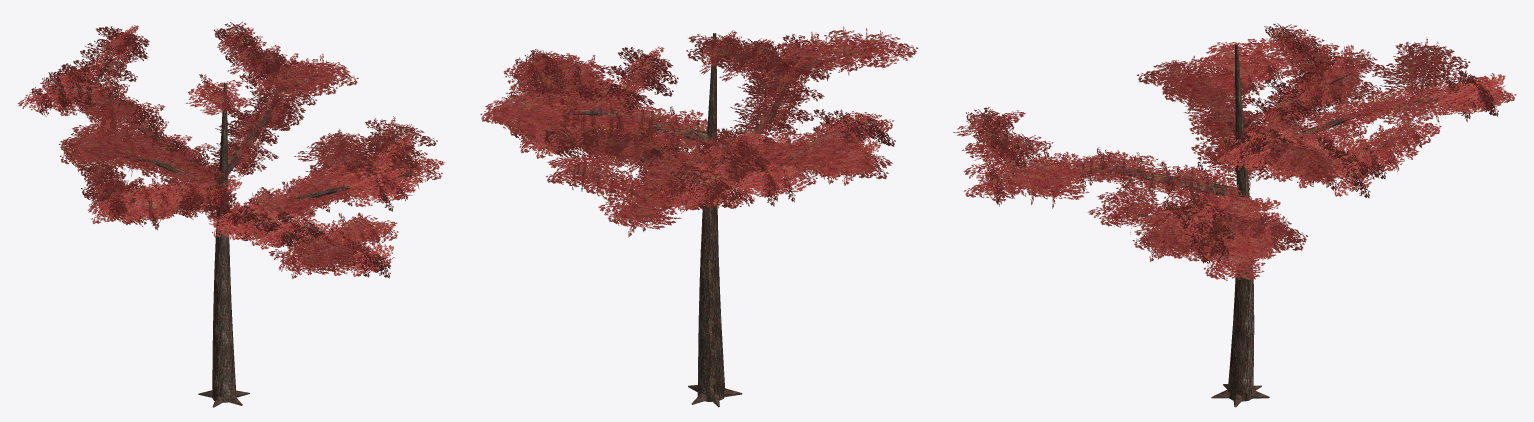
The model's file is tree_3d_05_red_lod0.glb.
The picture shows the model from 3 angles, left to right: view 1: azimuth 30°, elevation 25°; view 2: azimuth 150°, elevation 25°; view 3: azimuth 270°, elevation 25°; orthographic projection. The views are drawn at different scales.
Parts seen in each view (by area): view 1: foliage_cards, wood_geometry; view 2: foliage_cards, wood_geometry; view 3: foliage_cards, wood_geometry.
Part boxes in pixels (x1=…): foliage_cards: x1=17, y1=21, x2=445, y2=279; wood_geometry: x1=51, y1=48, x2=410, y2=407; foliage_cards: x1=480, y1=26, x2=918, y2=237; wood_geometry: x1=529, y1=33, x2=874, y2=407; foliage_cards: x1=953, y1=23, x2=1516, y2=280; wood_geometry: x1=988, y1=44, x2=1485, y2=407.
Size of the model in its own units: 9.84 by 8.94 by 12.95.
Materials: 2 (2 with a texture image).
